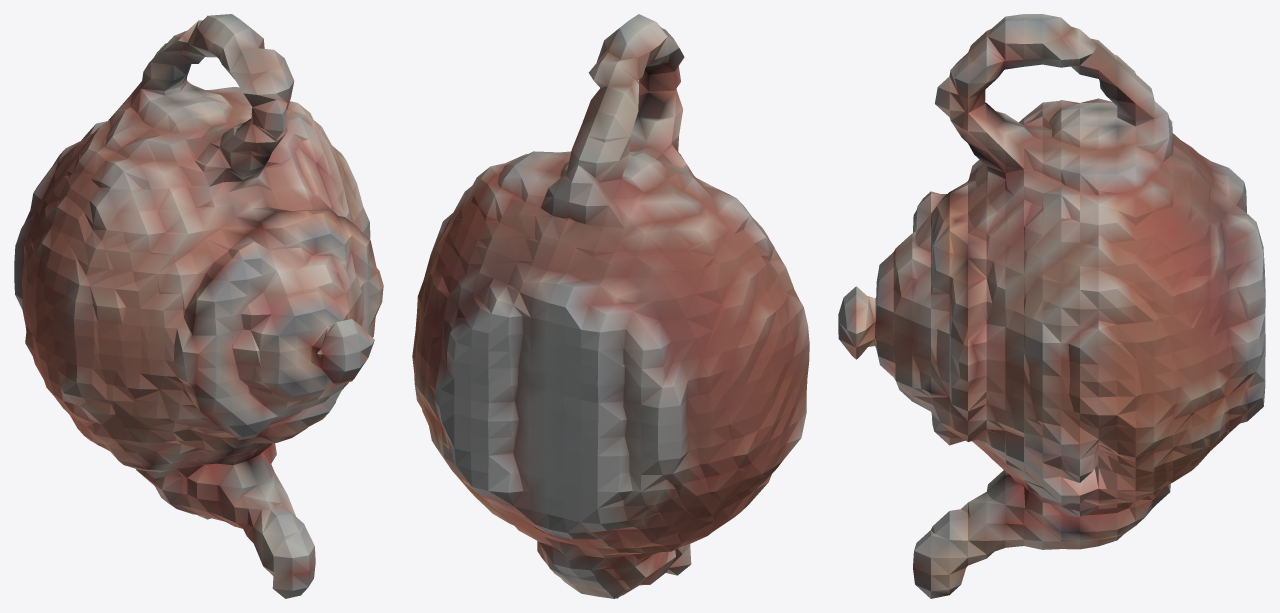
Rendered from source.glb.
The picture shows the model from 3 angles, left to right: view 1: azimuth 30°, elevation 25°; view 2: azimuth 150°, elevation 25°; view 3: azimuth 270°, elevation 25°; orthographic projection. The views are drawn at different scales.
Visible parts, largest first — view 1: generated-source; view 2: generated-source; view 3: generated-source.
Part boxes in pixels (left/top/right/bottom): generated-source: left=14, top=14, right=383, bottom=598; generated-source: left=412, top=14, right=809, bottom=598; generated-source: left=838, top=14, right=1265, bottom=598.
Bounding box in the file's own units: 0.061 × 0.1 × 0.0679.
